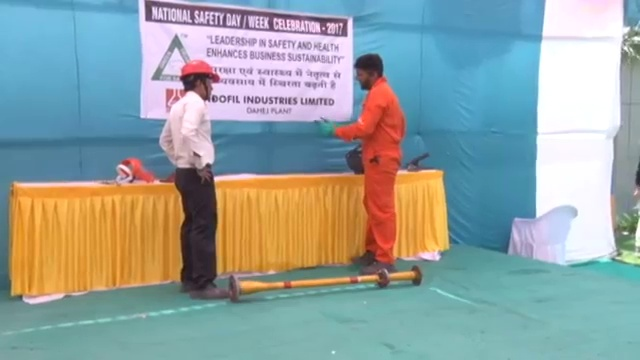helmet: (178, 59, 219, 83)
helmet_off: (353, 55, 385, 90)
helmet_on: (176, 59, 220, 102)
person: (155, 60, 231, 300), (340, 54, 408, 276)
